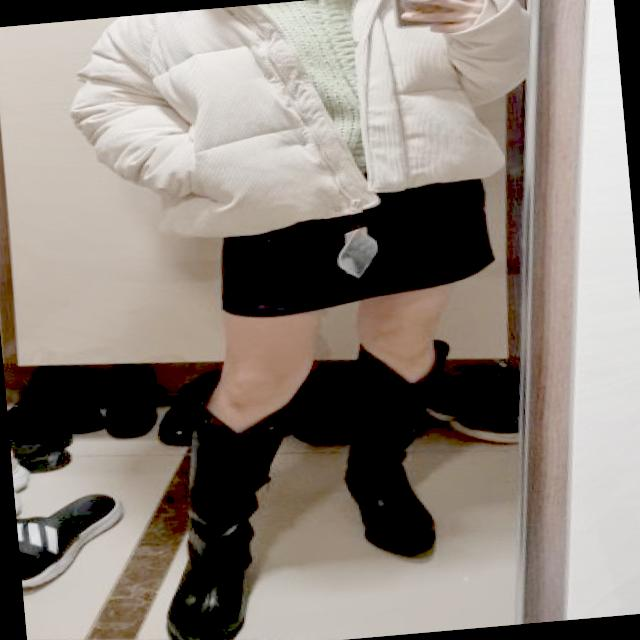padding: (60, 0, 539, 253)
skirt: (218, 174, 492, 317)
sweater: (227, 0, 388, 182)
